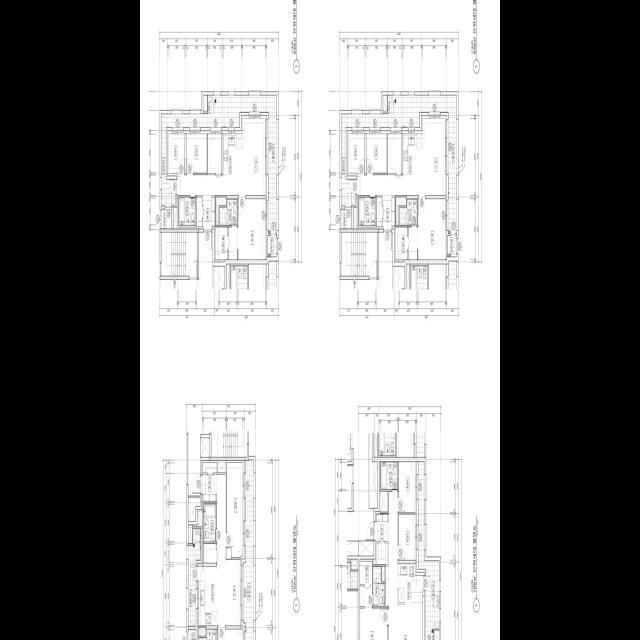background: (140, 0, 500, 640)
space_balconi: (341, 95, 457, 233), (162, 95, 277, 233), (418, 461, 439, 640), (243, 459, 254, 640), (188, 528, 201, 625)
space_bedroom: (238, 198, 265, 259), (418, 198, 445, 259), (227, 462, 243, 557), (399, 461, 416, 512), (360, 608, 387, 640), (366, 133, 387, 172), (187, 133, 207, 172), (399, 514, 415, 559), (169, 133, 185, 172), (349, 133, 365, 172), (218, 629, 243, 640)
space_dressroom: (215, 226, 237, 259), (395, 226, 417, 259), (360, 561, 372, 606)
space_front: (201, 462, 217, 501), (374, 513, 389, 541), (383, 195, 395, 230), (203, 195, 215, 230)
space_kitchen: (197, 566, 217, 625), (398, 563, 423, 604), (223, 133, 243, 174), (403, 133, 423, 174)
space_living_room: (178, 118, 265, 195), (358, 118, 445, 195), (386, 491, 423, 640), (217, 474, 241, 625)
space_other: (208, 133, 221, 173), (388, 133, 401, 173), (188, 497, 200, 521), (396, 197, 406, 225), (216, 197, 226, 225), (376, 543, 388, 564), (203, 543, 216, 562), (161, 209, 172, 228), (341, 209, 352, 228), (200, 437, 210, 456), (380, 491, 388, 511), (377, 197, 382, 226), (197, 197, 202, 226), (188, 629, 196, 640), (173, 207, 177, 228), (353, 207, 357, 228), (218, 462, 226, 472), (198, 511, 203, 526), (188, 525, 192, 543), (383, 95, 387, 111), (203, 95, 207, 111), (199, 627, 206, 635), (434, 630, 439, 640), (382, 566, 385, 581)
space_outdoor_room: (268, 235, 277, 256), (448, 235, 457, 256)
space_staircase: (161, 232, 197, 275), (341, 232, 377, 275)
space_toilet: (203, 503, 216, 541), (219, 198, 237, 225), (399, 198, 417, 225), (373, 566, 385, 606), (359, 197, 376, 225), (179, 197, 196, 225), (381, 461, 398, 489), (199, 629, 217, 640)
